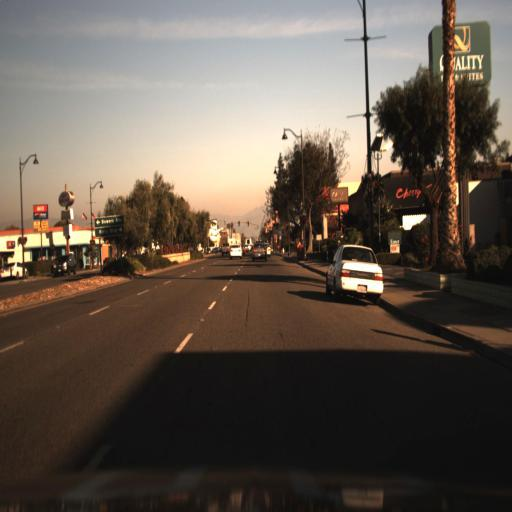car: (318, 241, 387, 315), (47, 248, 83, 281), (248, 239, 268, 262), (228, 239, 243, 259)
